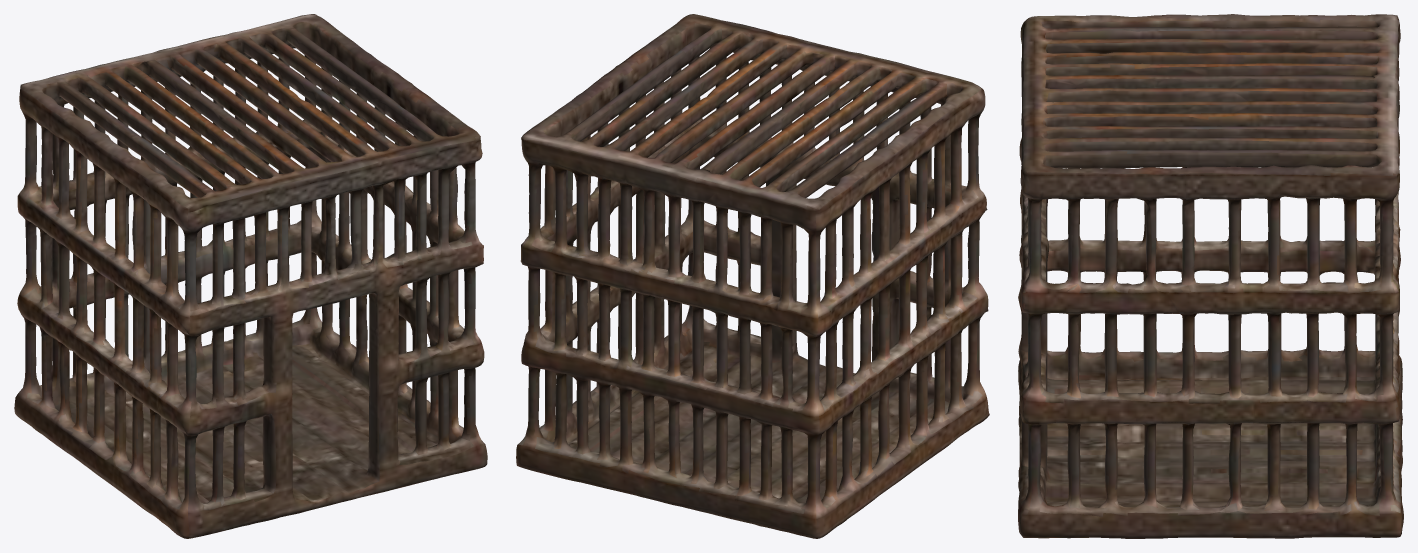
File: iron cage.glb
The picture shows the model from 3 angles, left to right: view 1: azimuth 30°, elevation 25°; view 2: azimuth 150°, elevation 25°; view 3: azimuth 270°, elevation 25°; orthographic projection. The views are drawn at different scales.
Bounding box in the file's own units: 1.92 × 2.01 × 1.9.
Materials: 1 (1 with a texture image).
